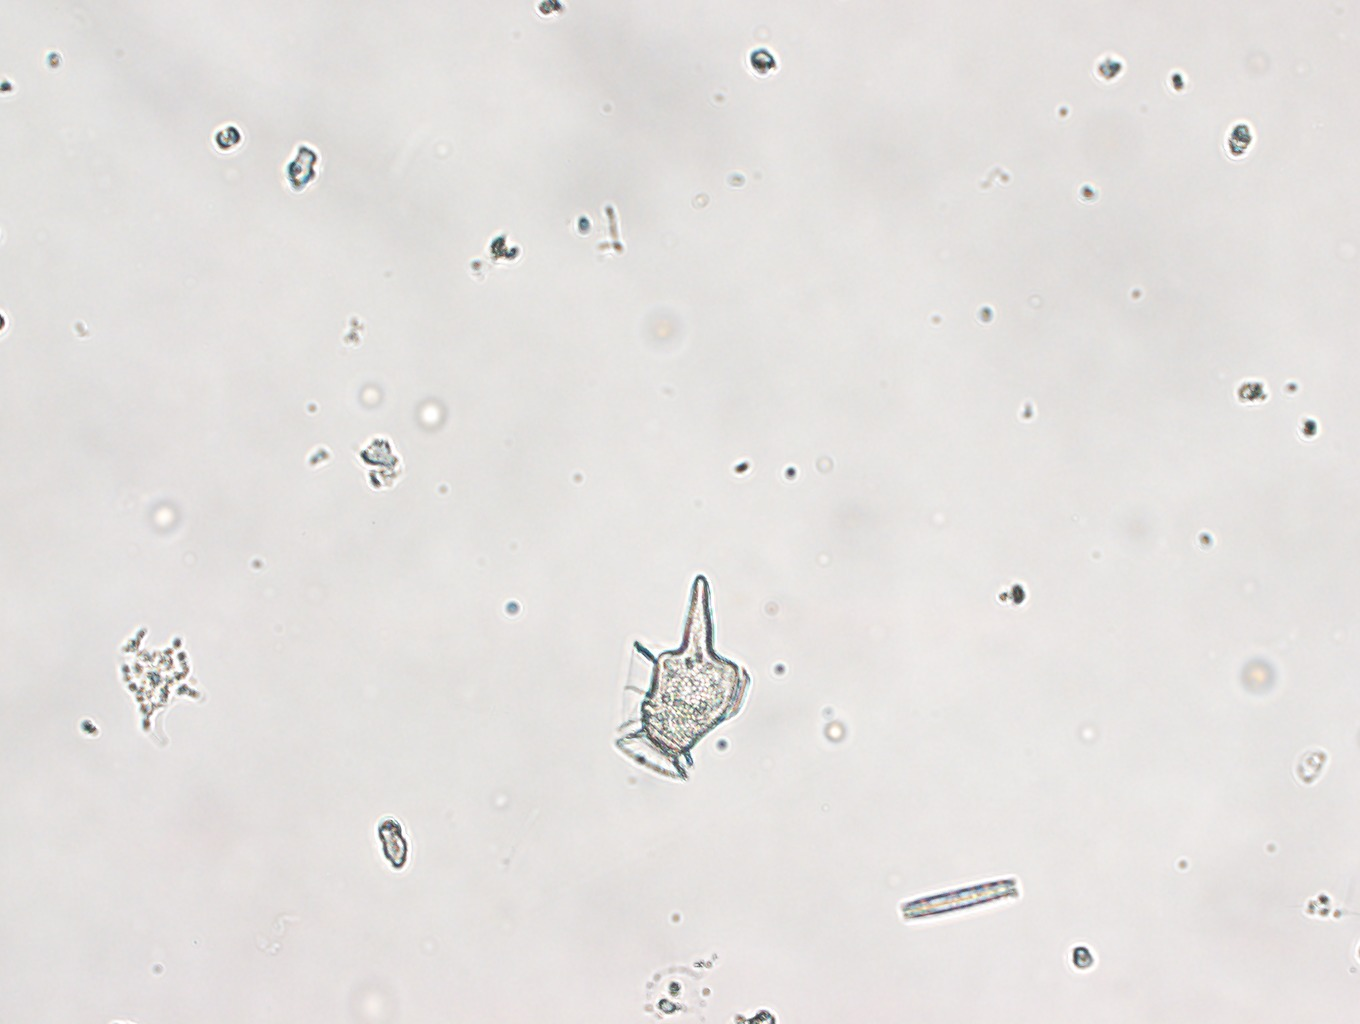dinophysis caudata: (602, 561, 751, 791)
